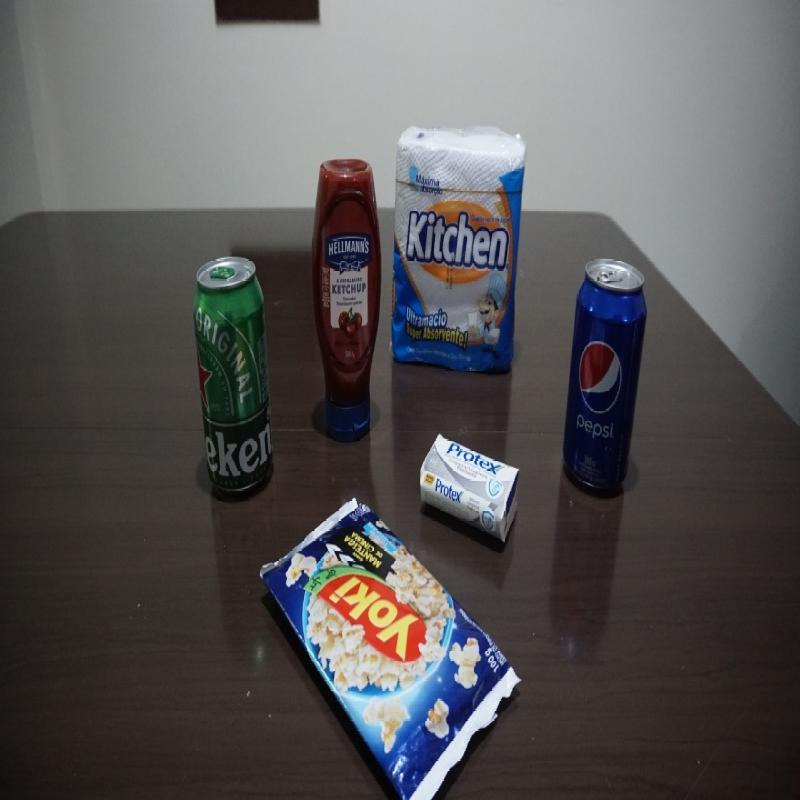Beer can: (191, 250, 277, 502)
Ketchup: (310, 156, 382, 447)
Napkin: (386, 122, 532, 370)
Popcorn: (259, 496, 521, 796)
Soap: (417, 432, 520, 546)
Soda can: (560, 256, 650, 500)
